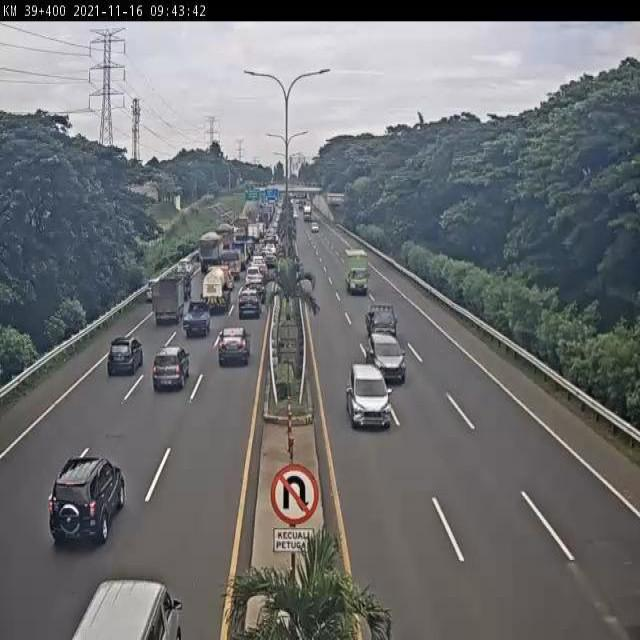car: (40, 443, 131, 565), (62, 569, 183, 639), (342, 355, 401, 436), (363, 321, 413, 392), (145, 340, 197, 400), (101, 327, 147, 388), (211, 316, 257, 375), (180, 297, 214, 343), (365, 300, 401, 341), (233, 283, 265, 321), (131, 276, 158, 313), (173, 269, 198, 303), (245, 279, 270, 309), (154, 271, 176, 296), (244, 263, 264, 285), (244, 273, 265, 292), (185, 247, 202, 269), (252, 253, 267, 272), (264, 251, 278, 268)
small truck: (135, 273, 189, 335), (339, 240, 377, 299), (219, 247, 246, 284)
truck-m-: (197, 264, 234, 319), (195, 227, 229, 277), (212, 222, 234, 255)
